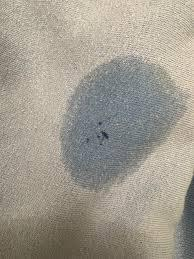ink: (61, 55, 164, 183)
